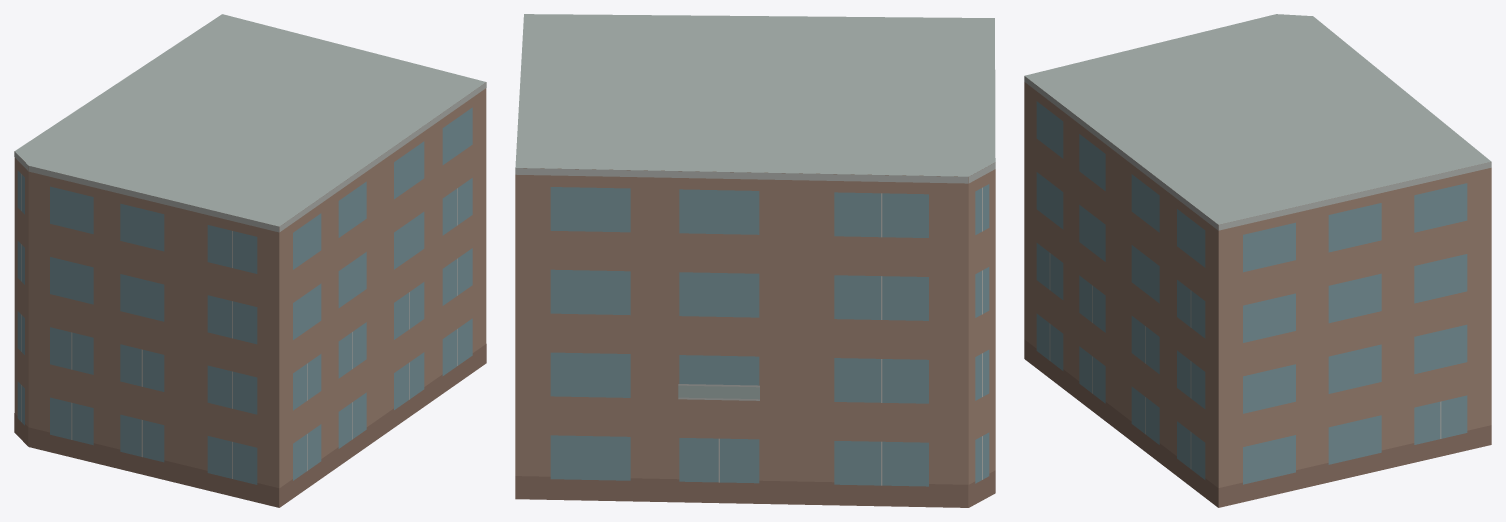
Rendered from survey-upis-32977621.glb.
3 renders of one model, left to right at view 1: azimuth 30°, elevation 25°; view 2: azimuth 150°, elevation 25°; view 3: azimuth 270°, elevation 25°, orthographic. The views are drawn at different scales.
Parts seen in each view (by area): view 1: survey-upis-32977621.tmp; view 2: survey-upis-32977621.tmp; view 3: survey-upis-32977621.tmp.
Boxes of the visible parts, x1,y1,x2,y2 form: survey-upis-32977621.tmp: (14,14,486,507); survey-upis-32977621.tmp: (515,14,995,507); survey-upis-32977621.tmp: (1024,14,1491,507).
Size of the model in its own units: 18.69 by 11.7 by 17.52.
